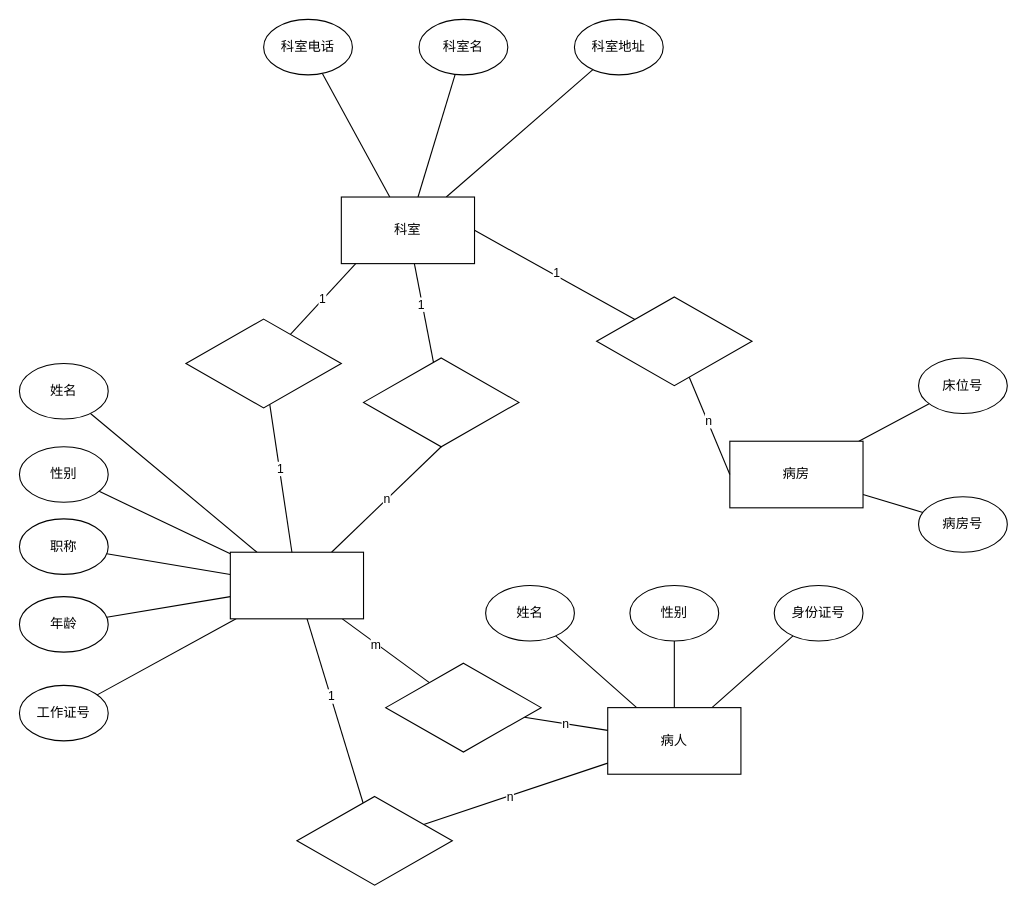
The diagram is 1027 pixels wide and 905 high, and some of its shapes have lost their labels. Here are the shapes that lost their labels. From the top down, the centre of each, then its label:
At point 674,341: "负责".
At point 263,363: "主任领导-科室".
At point 440,402: "医生-科室".
At point 296,585: "医生".
At point 463,707: "医生-病人".
At point 374,840: "主治医生-病人".
